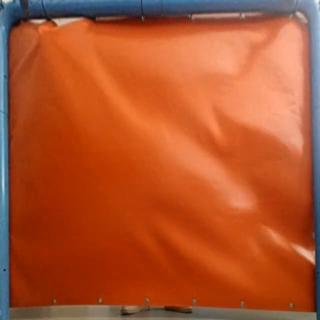Hit-hRxx: (34, 25, 49, 38)
